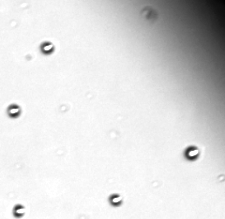Living Cell: (184, 146, 199, 160), (7, 104, 21, 117), (40, 42, 54, 54), (109, 194, 123, 206), (13, 205, 25, 217)
